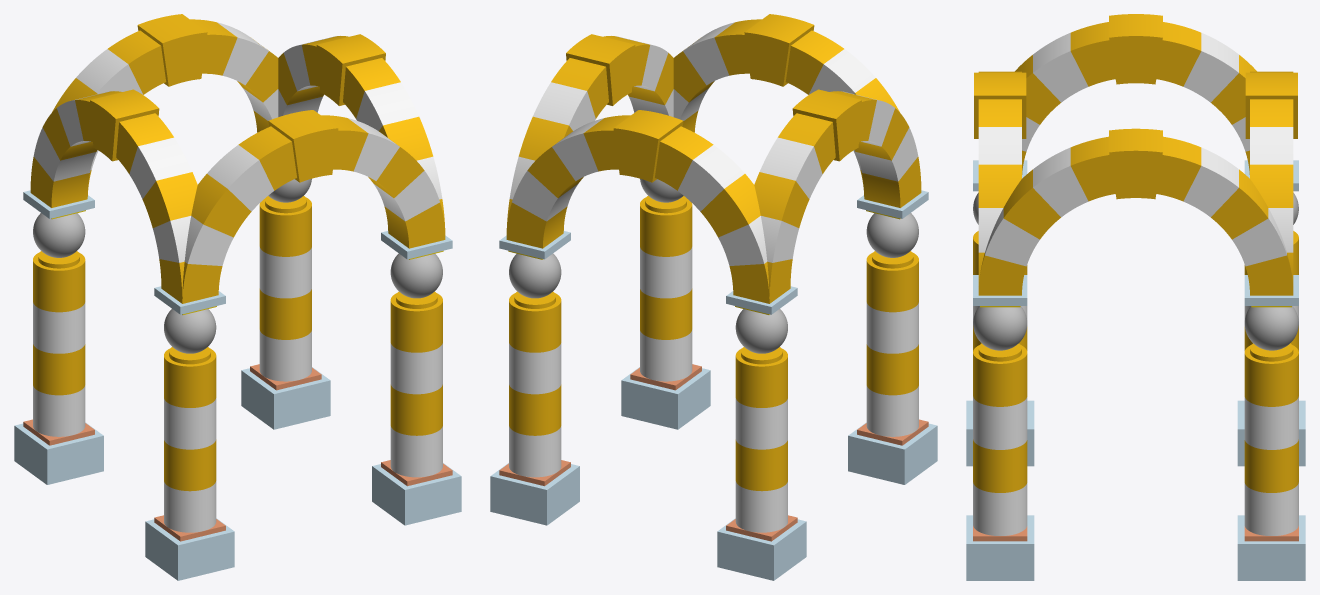
The model's file is memphis-arches-coarse.gltf.
3 views of the same model, side by side, from view 1: azimuth 30°, elevation 25°; view 2: azimuth 150°, elevation 25°; view 3: azimuth 270°, elevation 25° (orthographic). The views are drawn at different scales.
Parts seen in each view (by area): view 1: Part 1 (×4), Part 16 (×4), Part 6 (×4), Part 3 (×4), Part 5 (×4), Part 4 (×4), Part 14 (×4), Part 8 (×4), Part 18 (×4), Part 17 (×4), Part 15 (×4), Part 13 (×4) (+7 smaller); view 2: Part 1 (×4), Part 16 (×4), Part 6 (×4), Part 5 (×4), Part 3 (×4), Part 4 (×4), Part 18 (×4), Part 8 (×4), Part 14 (×4), Part 15 (×4), Part 17 (×4), Part 19 (×4) (+7 smaller); view 3: Part 16 (×4), Part 1 (×4), Part 18 (×3), Part 14 (×3), Part 17 (×3), Part 15 (×3), Part 6 (×2), Part 19 (×3), Part 13 (×3), Part 5 (×2), Part 3 (×2), Part 4 (×2) (+8 smaller).
Boxes of the visible parts, bbox=[...] form: Part 1 (×4): bbox=[14, 367, 461, 580]; Part 16 (×4): bbox=[90, 14, 385, 182]; Part 6 (×4): bbox=[33, 197, 442, 407]; Part 3 (×4): bbox=[33, 330, 442, 532]; Part 5 (×4): bbox=[33, 247, 442, 449]; Part 4 (×4): bbox=[33, 288, 442, 491]; Part 14 (×4): bbox=[57, 22, 418, 211]; Part 8 (×4): bbox=[33, 178, 442, 353]; Part 18 (×4): bbox=[76, 36, 399, 198]; Part 17 (×4): bbox=[108, 30, 368, 173]; Part 15 (×4): bbox=[75, 19, 400, 190]; Part 13 (×4): bbox=[42, 39, 433, 237]; Part 1 (×4): bbox=[490, 367, 937, 580]; Part 16 (×4): bbox=[566, 14, 861, 182]; Part 6 (×4): bbox=[509, 197, 918, 407]; Part 5 (×4): bbox=[509, 247, 918, 449]; Part 3 (×4): bbox=[509, 330, 918, 532]; Part 4 (×4): bbox=[509, 288, 918, 491]; Part 18 (×4): bbox=[533, 22, 894, 211]; Part 8 (×4): bbox=[509, 178, 918, 353]; Part 14 (×4): bbox=[552, 36, 875, 198]; Part 15 (×4): bbox=[583, 30, 843, 173]; Part 17 (×4): bbox=[551, 19, 876, 190]; Part 19 (×4): bbox=[518, 39, 909, 237]; Part 16 (×4): bbox=[974, 14, 1297, 199]; Part 1 (×4): bbox=[966, 400, 1305, 580]; Part 18 (×3): bbox=[978, 33, 1238, 217]; Part 14 (×3): bbox=[1033, 33, 1293, 217]; Part 17 (×3): bbox=[978, 22, 1201, 201]; Part 15 (×3): bbox=[1070, 22, 1293, 201]; Part 6 (×2): bbox=[973, 345, 1298, 406]; Part 19 (×3): bbox=[978, 55, 1268, 239]; Part 13 (×3): bbox=[1003, 55, 1293, 239]; Part 5 (×2): bbox=[973, 396, 1298, 449]; Part 3 (×2): bbox=[973, 482, 1298, 535]; Part 4 (×2): bbox=[973, 439, 1298, 492].
Bounding box in the file's own units: 2.5 × 3.47 × 2.5.
